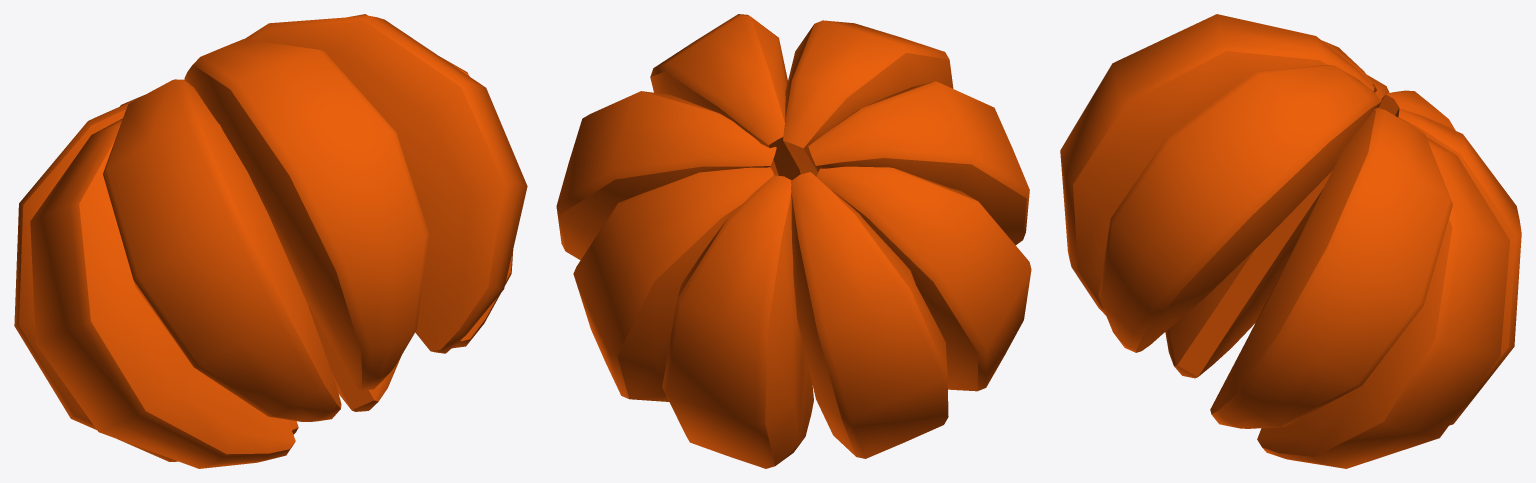
The model's file is p_mesh_hvs_lemonium_part01.fbx.
The picture shows the model from 3 angles, left to right: view 1: azimuth 30°, elevation 25°; view 2: azimuth 150°, elevation 25°; view 3: azimuth 270°, elevation 25°; orthographic projection. The views are drawn at different scales.
Parts seen in each view (by area): view 1: p_harvests_lemonium_part01; view 2: p_harvests_lemonium_part01; view 3: p_harvests_lemonium_part01.
Part boxes in pixels (bbox=[...]): p_harvests_lemonium_part01: bbox=[14, 14, 527, 468]; p_harvests_lemonium_part01: bbox=[556, 14, 1031, 468]; p_harvests_lemonium_part01: bbox=[1060, 14, 1521, 468].
Size of the model in its own units: 6.47 by 5.68 by 5.82.
